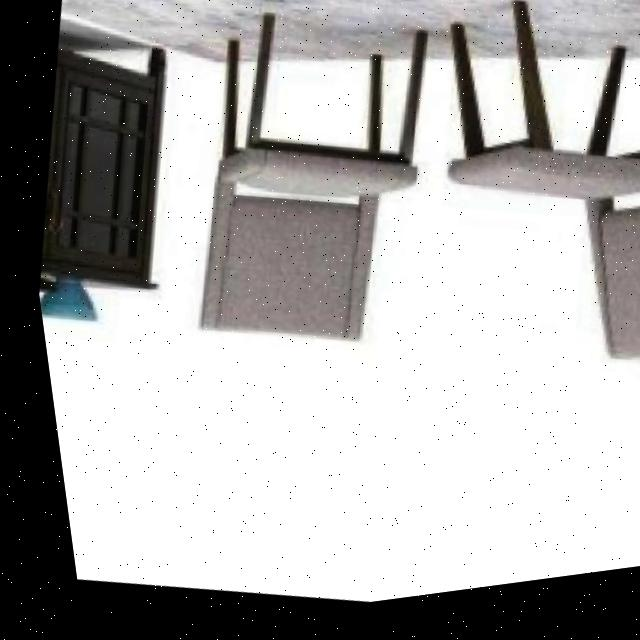sandalye: (153, 0, 458, 378), (374, 0, 640, 409)
